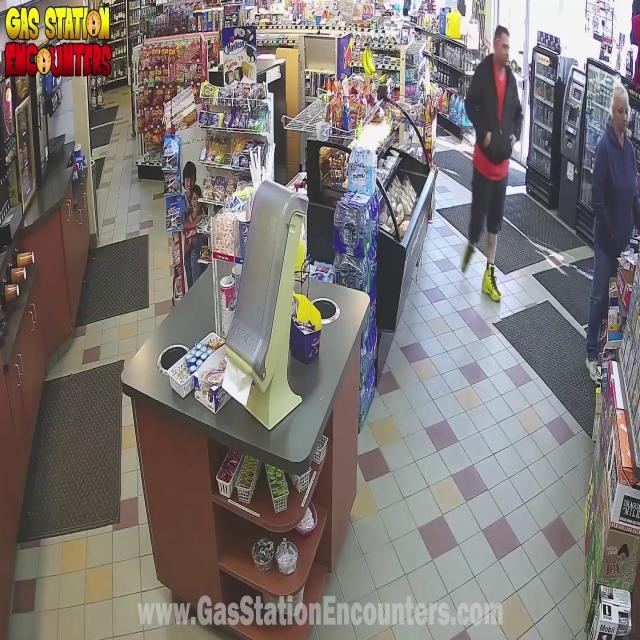normal: (441, 19, 530, 326), (561, 74, 635, 385)
